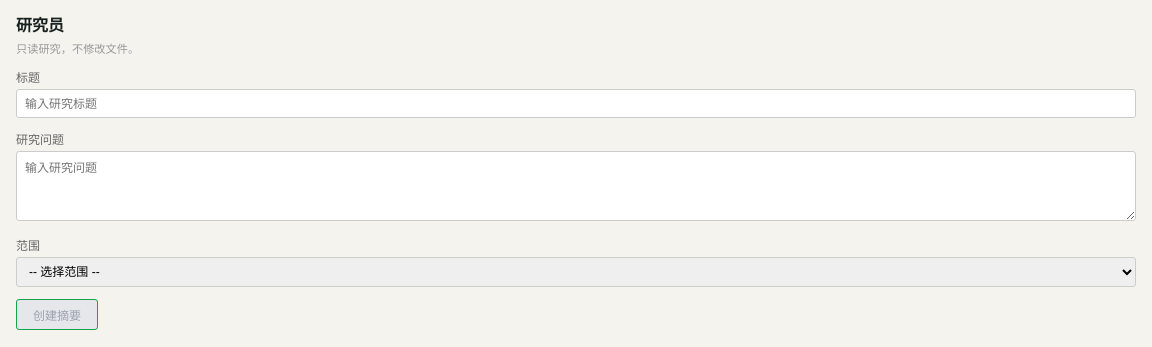
Test: ResearcherPanel › shows error state
The image size is (1152, 347).
Type "title" into the field with placeholder "输入研究标题" at (576, 104), box [16,89,1136,118]
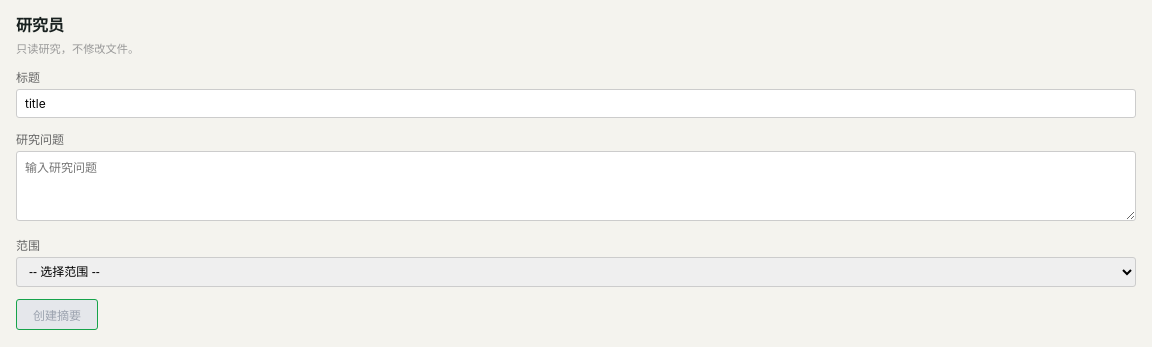
Type "question" into the text box with placeholder "输入研究问题" at (576, 186), box [16,151,1136,221]
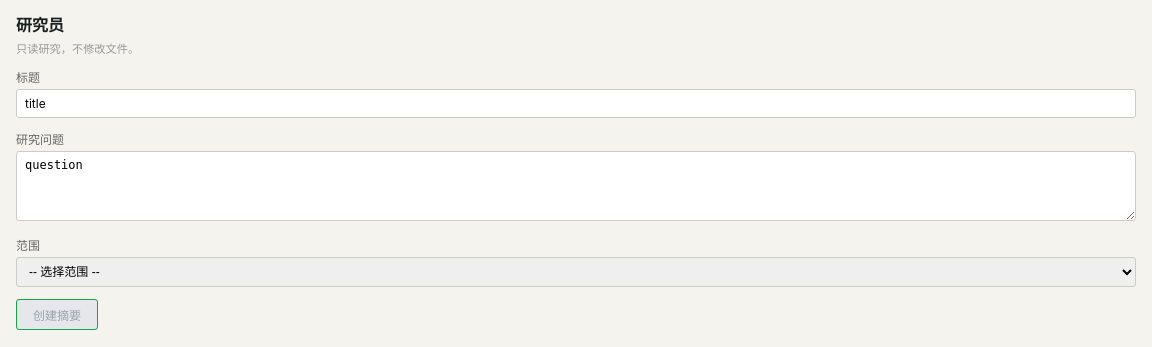
Select "代码地图" in the dropdown at (576, 272), box [16,257,1136,287]
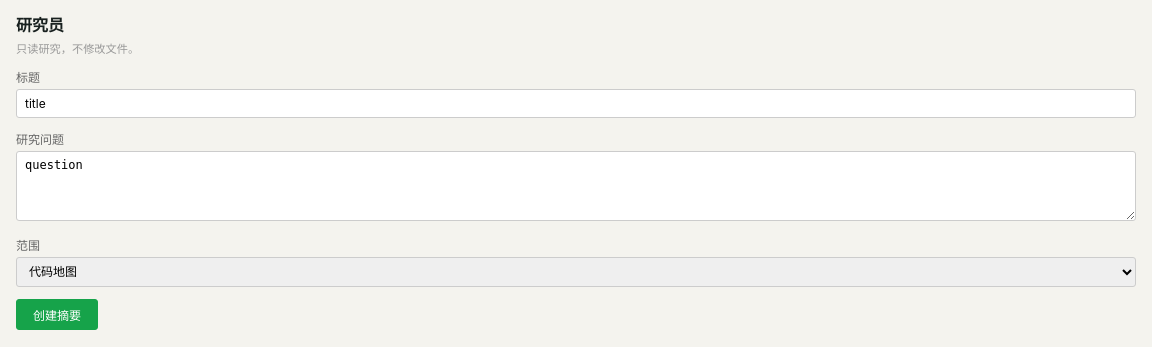
Click the button "创建摘要" at (57, 314), box [16,299,98,330]
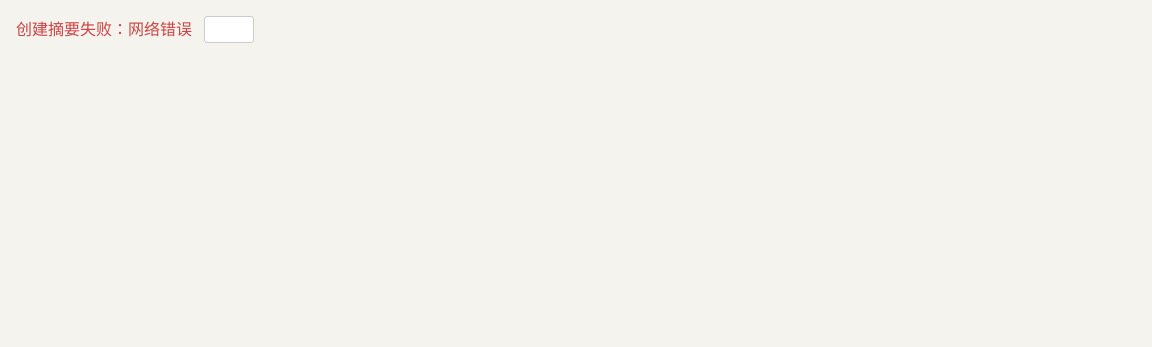
Expected: the text "创建摘要失败：网络错误 重试" is shown, [16,16,254,43]
